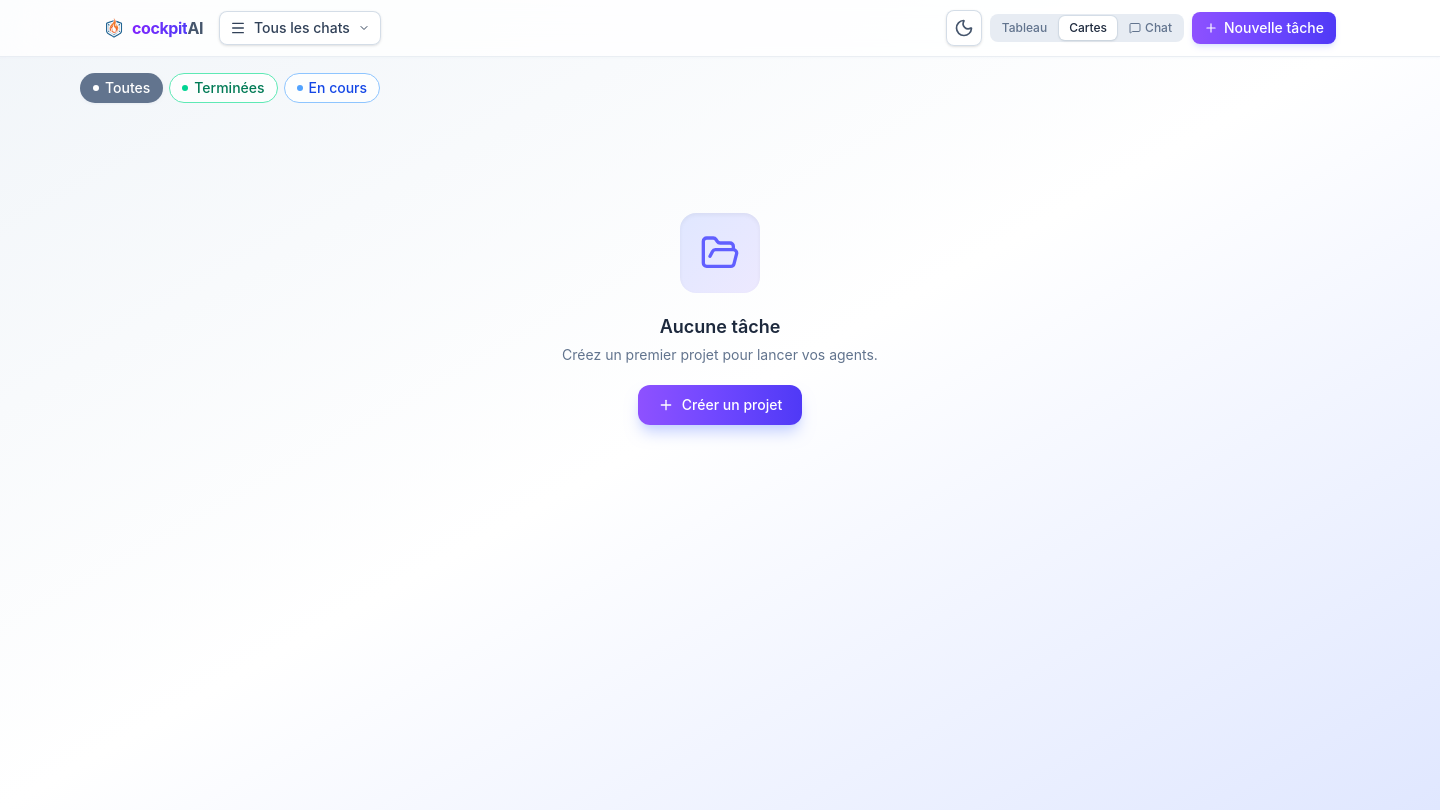
Test: App › switches back to table view after clicking Tableau
The image size is (1440, 810).
Click the button "Chat".
click(1151, 28)  # box [1119,16,1182,40]
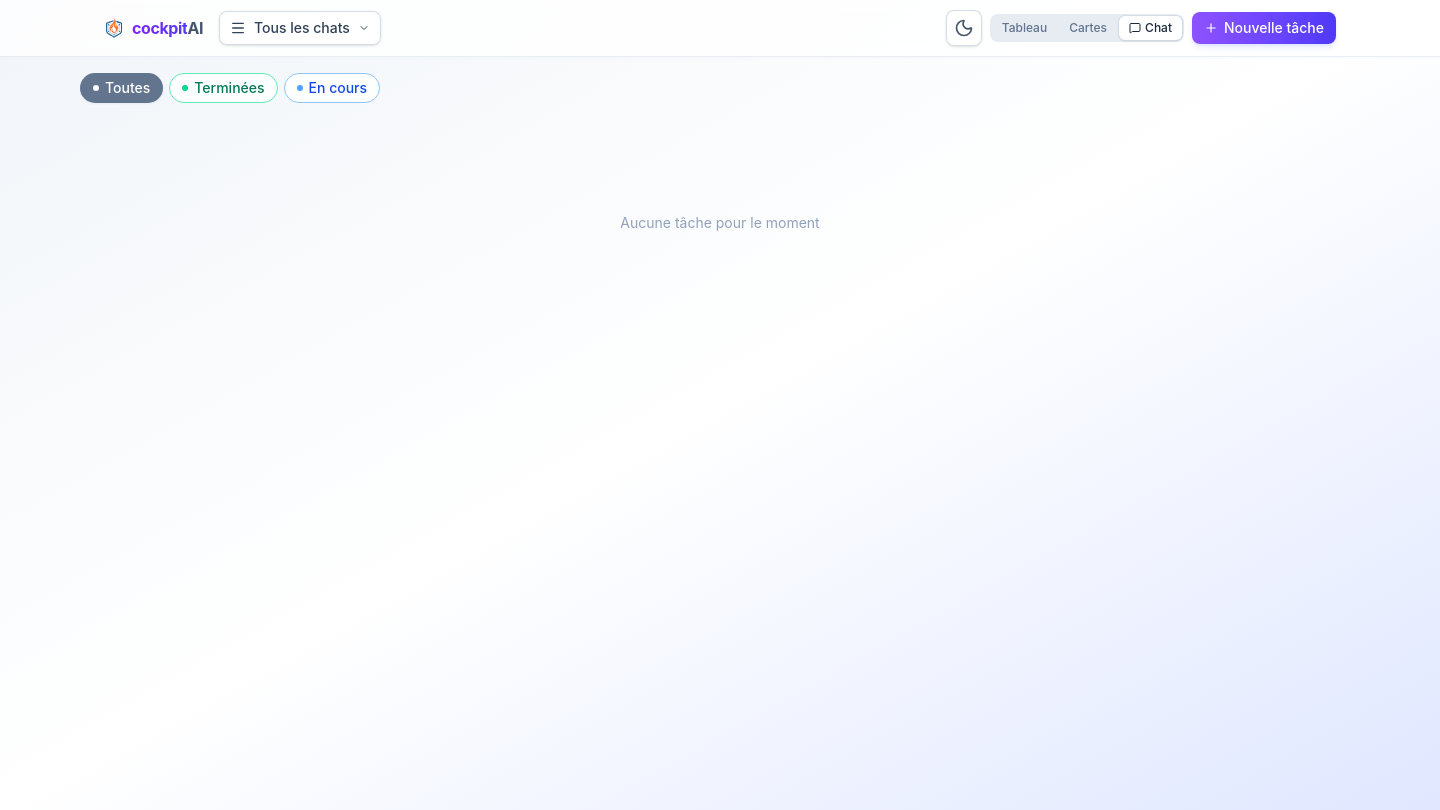
Click the button "Tableau".
click(1024, 28)  # box [992,16,1057,40]
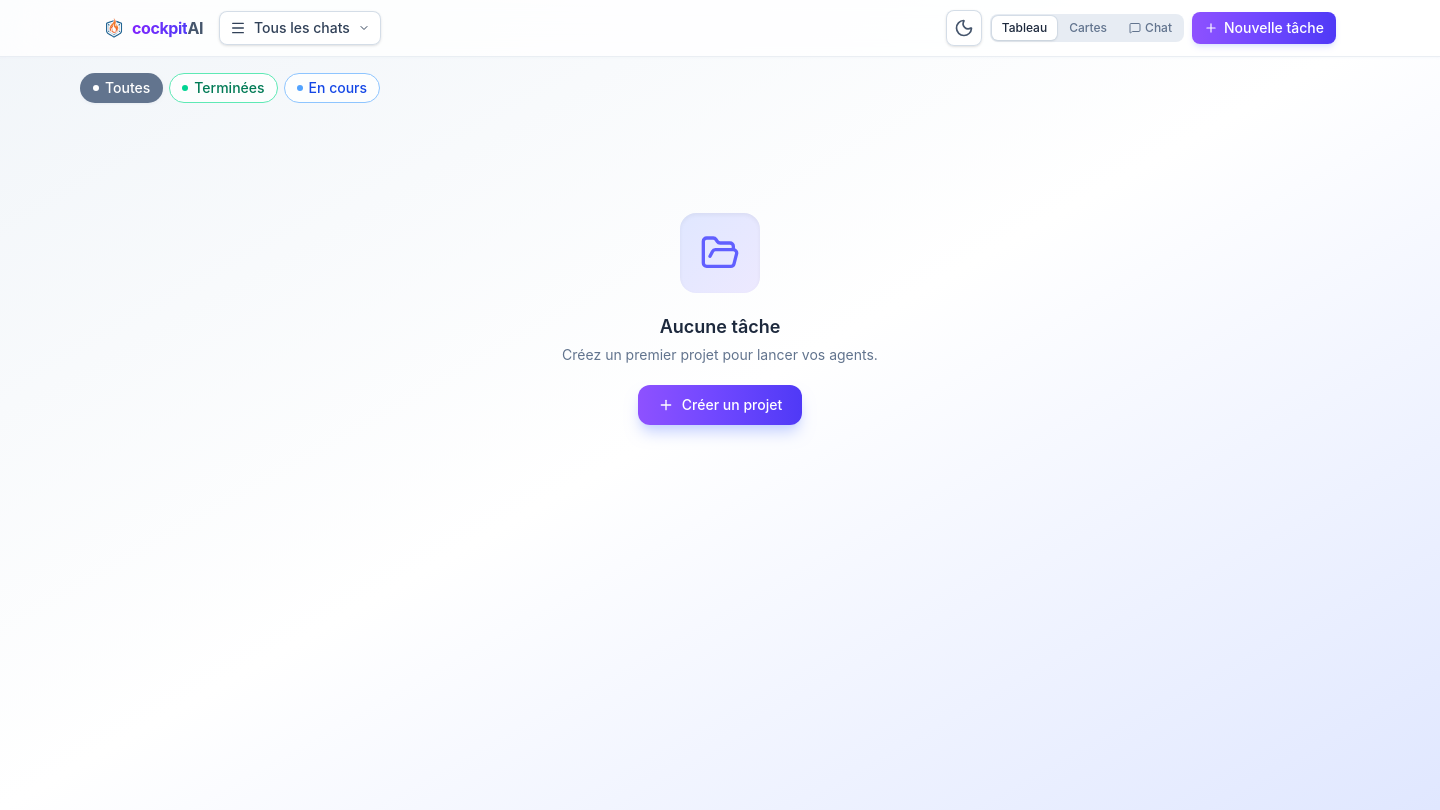
Check: the element with test id "chat-view" is gone
